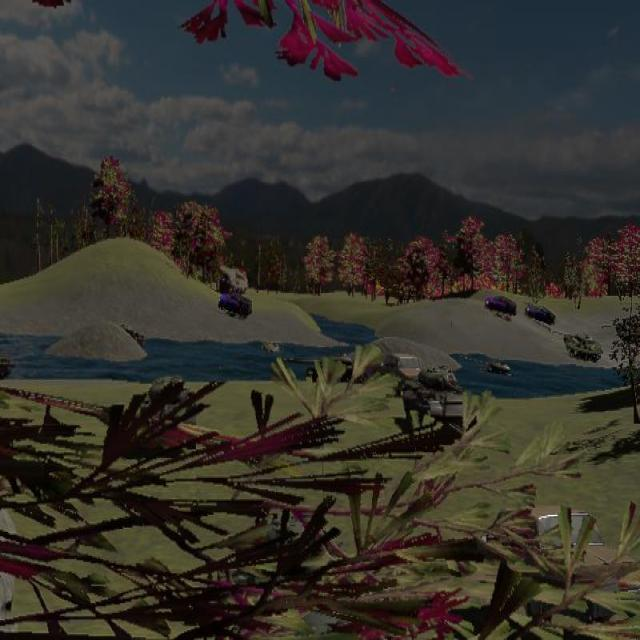Tank: (402, 365, 478, 439), (546, 326, 603, 363)
